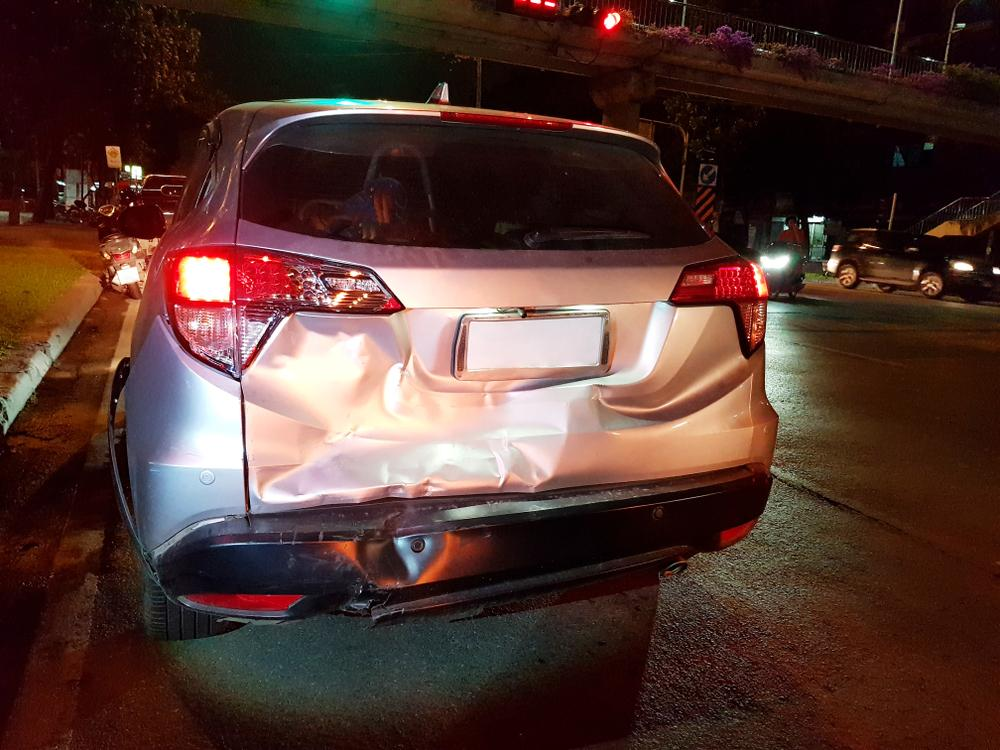dent: (258, 316, 574, 504), (334, 508, 439, 582)
lamp broken: (170, 244, 405, 375)
